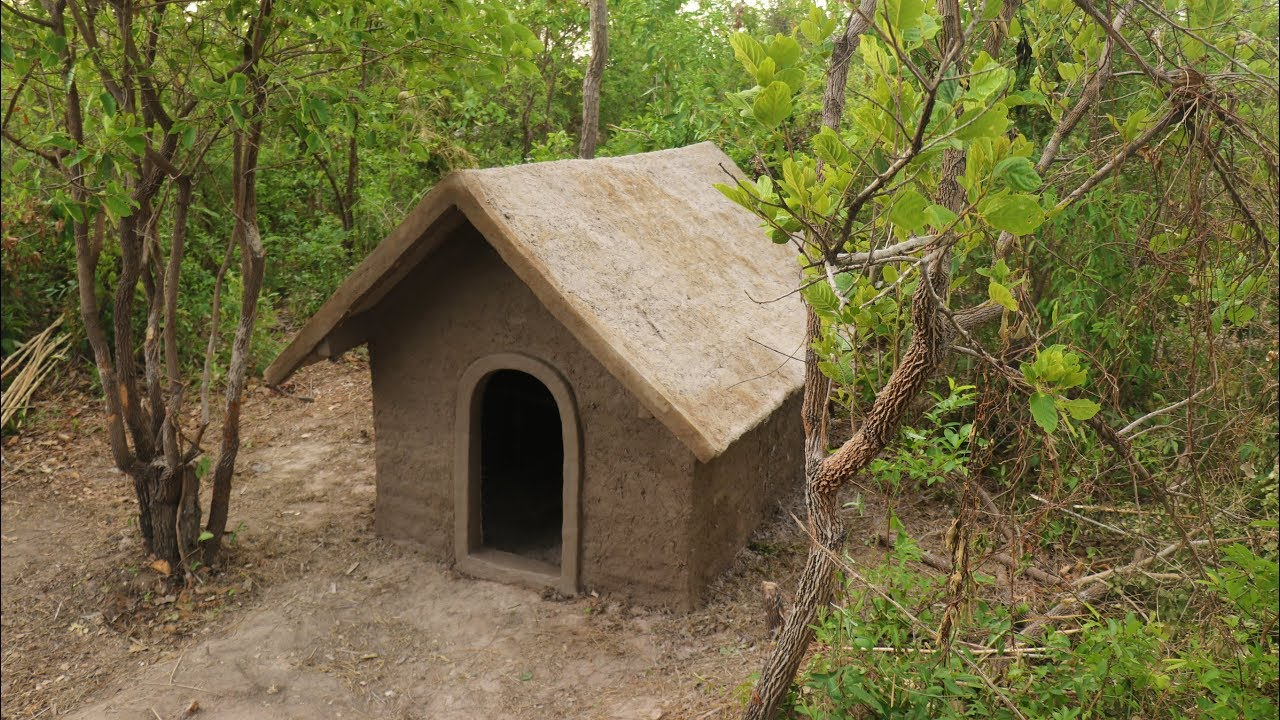Mud House: (241, 120, 873, 602)
